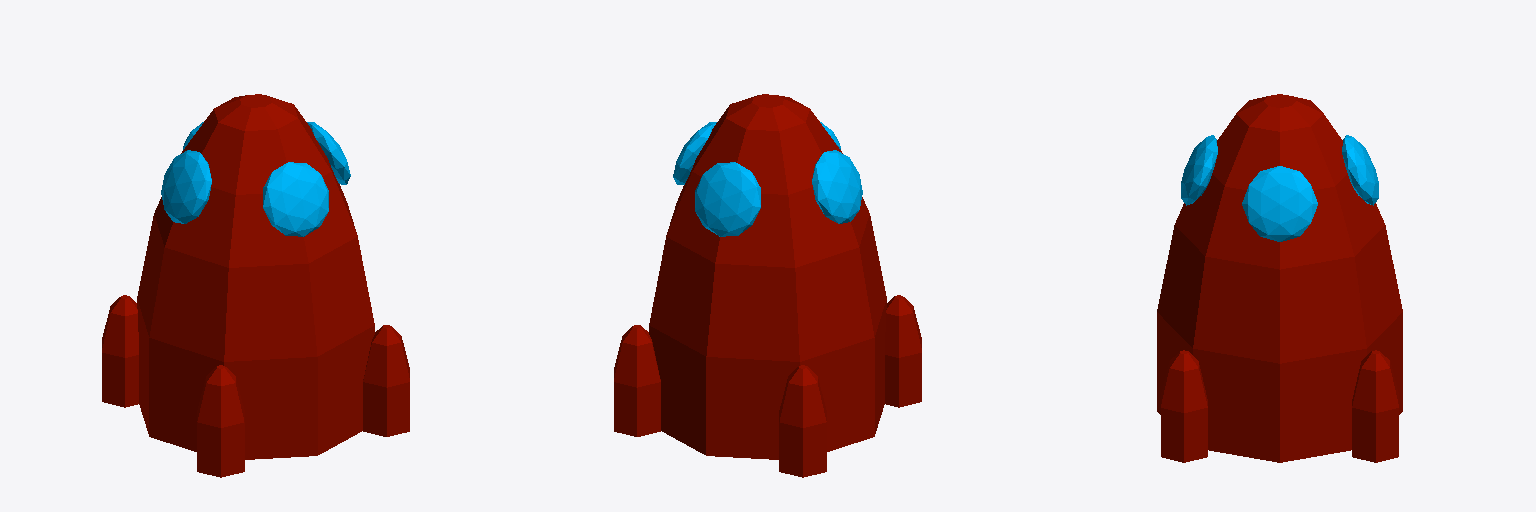
The model's file is Rocket.obj.
The picture shows the model from 3 angles: view 1: azimuth 30°, elevation 25°; view 2: azimuth 150°, elevation 25°; view 3: azimuth 270°, elevation 25°; orthographic projection.
Visible parts, largest first — view 1: Rocket; view 2: Rocket; view 3: Rocket.
Part boxes in pixels (left/top/right/bottom): Rocket: left=102, top=94, right=409, bottom=477; Rocket: left=614, top=94, right=921, bottom=477; Rocket: left=1157, top=94, right=1402, bottom=462.
Bounding box in the file's own units: 0.9 × 1.25 × 0.9.